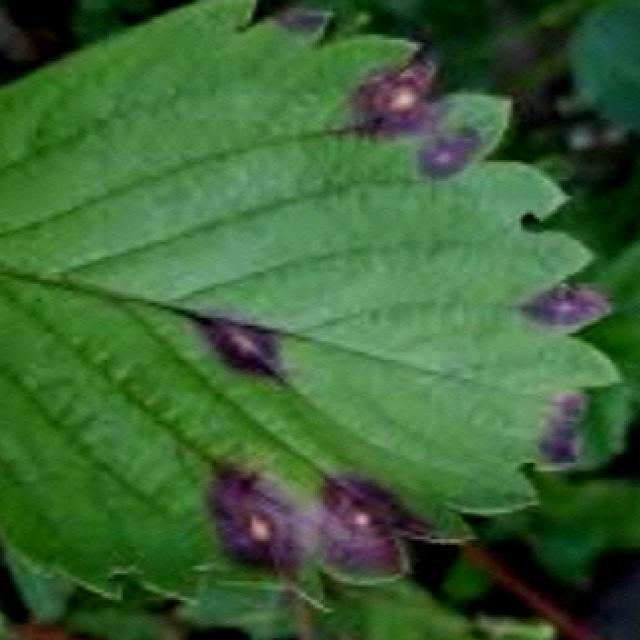Leaf Spot: (0, 0, 625, 614)
